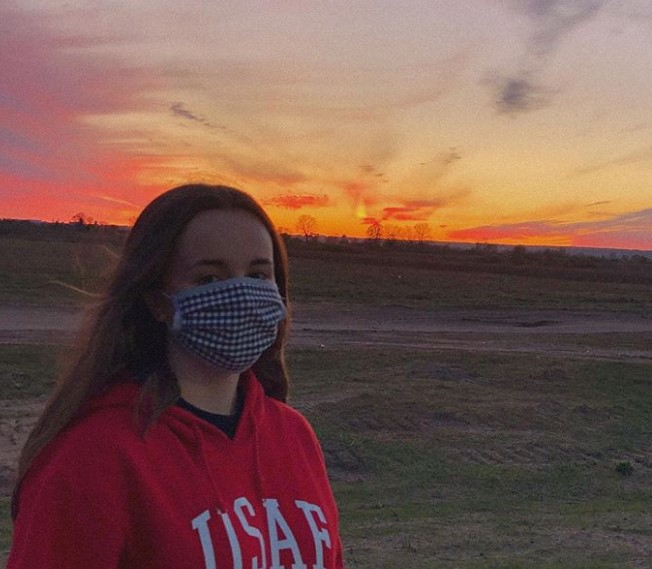face_with_mask: (138, 188, 284, 371)
